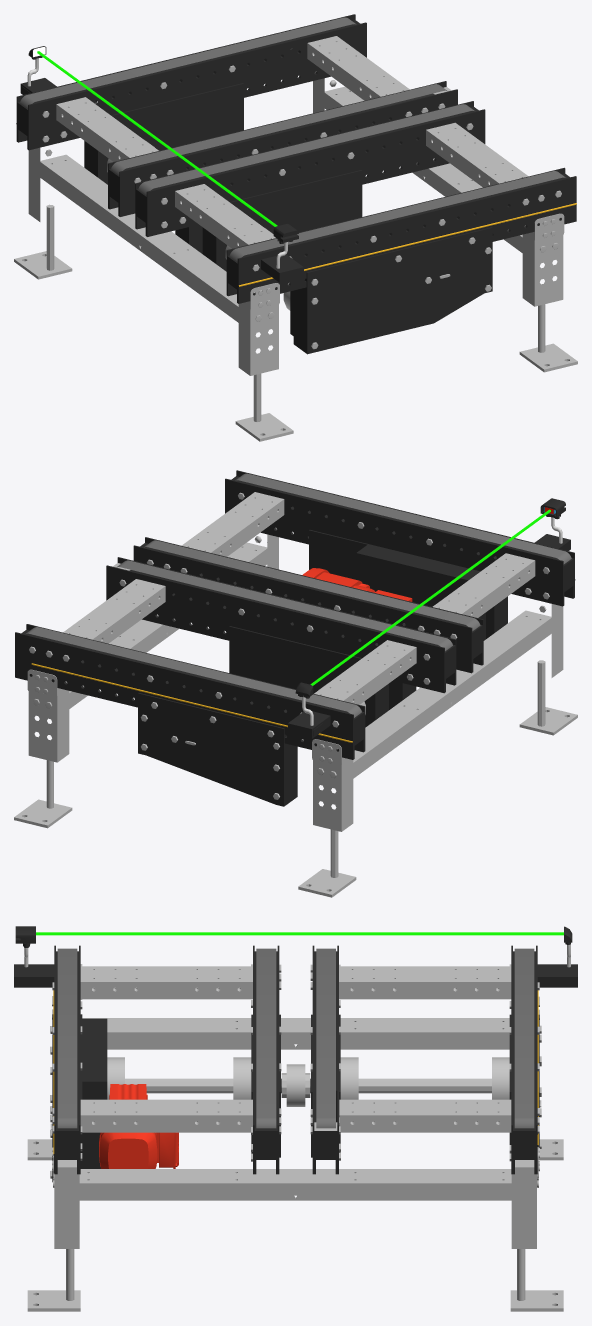
Rendered from ChainConveyor-1m.glb.
3 views of the same model, one above another, from view 1: azimuth 30°, elevation 25°; view 2: azimuth 150°, elevation 25°; view 3: azimuth 270°, elevation 25° (orthographic). The views are drawn at different scales.
Visible parts, largest first — view 1: Base, Transport-Z, Ray, Cube; view 2: Base, Transport-Z, Ray, DriveMesh, Cube; view 3: Base, Transport-Z, DriveMesh, Ray, Cube (×2), Reflector.
Boxes of the visible parts, x1,y1,x2,y2 form: Base: [14, 14, 577, 441]; Transport-Z: [20, 17, 565, 261]; Ray: [37, 51, 277, 226]; Cube: [261, 254, 303, 282]; Base: [14, 470, 577, 897]; Transport-Z: [26, 473, 571, 717]; Ray: [310, 509, 550, 685]; DriveMesh: [302, 568, 412, 601]; Cube: [288, 711, 330, 738]; Base: [27, 945, 563, 1311]; Transport-Z: [57, 948, 534, 1128]; DriveMesh: [99, 1084, 178, 1168]; Ray: [36, 932, 563, 935]; Cube (×2): [14, 964, 577, 987]; Reflector: [15, 926, 35, 967].
Bounding box in the file's own units: 1 × 0.5878 × 1.33.
